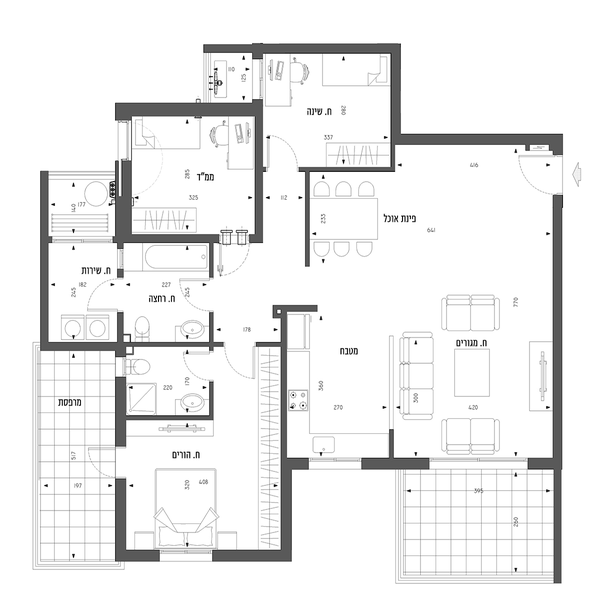door: (518, 151, 568, 198), (222, 345, 264, 386), (177, 350, 224, 386), (178, 273, 217, 315), (82, 444, 131, 474), (266, 128, 297, 173), (219, 224, 247, 272), (85, 281, 130, 309)
room: (270, 301, 561, 479), (283, 134, 569, 309), (109, 340, 298, 559), (195, 33, 400, 168), (117, 99, 262, 249), (115, 233, 286, 345), (37, 166, 130, 354)
wall: (274, 294, 296, 568), (553, 194, 567, 587), (200, 36, 403, 60), (116, 100, 266, 124), (391, 130, 562, 150), (251, 101, 270, 247), (37, 339, 220, 354), (39, 169, 54, 351), (107, 160, 137, 250), (297, 164, 317, 270), (357, 452, 437, 478), (297, 157, 396, 175), (113, 476, 133, 564), (121, 234, 218, 251), (388, 47, 403, 149), (126, 411, 220, 427), (215, 545, 278, 565), (204, 375, 225, 424), (116, 373, 128, 449), (527, 456, 562, 480), (116, 544, 157, 563), (201, 314, 223, 342), (113, 313, 130, 348), (207, 236, 217, 274)
window: (436, 454, 531, 477), (249, 52, 274, 105), (308, 451, 359, 473), (159, 544, 214, 564), (117, 117, 139, 164)
